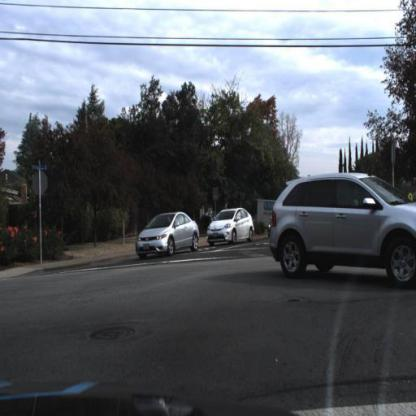car: (268, 175, 416, 287), (137, 211, 201, 257), (206, 206, 259, 246)
